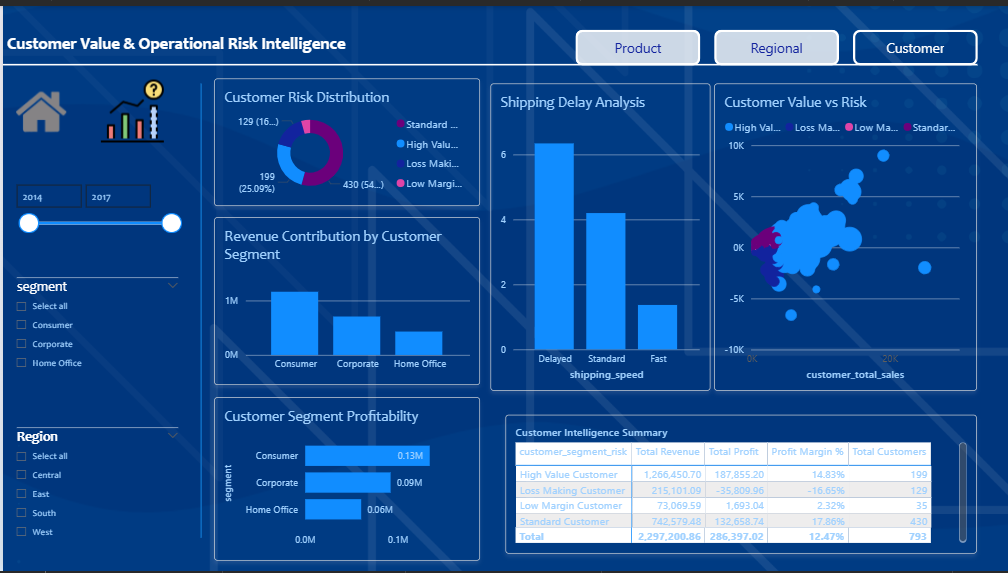

The page's visual inventory and layout, read from the dashboard file:
{"tool":"powerbi","page":{"name":"Customer Value & Operational Risk Intelligence","canvas":[1280,720],"ordinal":4},"visuals":[{"type":"slicer","fields":{"Values":["superstore_cleaned.segment"]},"box":[9.5,346.1,221.3,151.3],"z":0},{"type":"clusteredColumnChart","title":"Revenue Contribution by Customer Segment","fields":{"Category":["superstore_cleaned.segment"],"Y":["superstore_cleaned.Total Revenue"]},"box":[268.6,268.6,338.5,213.7],"z":1000},{"type":"clusteredBarChart","title":"Customer Segment Profitability","fields":{"Category":["superstore_cleaned.segment"],"Y":["superstore_cleaned.Total Profit"]},"box":[268.6,497.4,338.5,208],"z":2000},{"type":"donutChart","title":"Customer Risk Distribution","fields":{"Category":["superstore_cleaned.customer_segment_risk"],"Y":["Count(superstore_cleaned.customer_id)"]},"box":[268.6,92.7,338.5,162.6],"z":3000},{"type":"columnChart","title":"Shipping Delay Analysis","fields":{"Category":["superstore_cleaned.shipping_speed"],"Y":["Avg(superstore_cleaned.shipping_days)"]},"box":[620.3,98.3,279.9,391.5],"z":4000},{"type":"textbox","box":[0,29.9,1214.2,51.3],"z":5000,"group":"g1"},{"type":"scatterChart","title":"Customer Value vs Risk","fields":{"X":["superstore_cleaned.customer_total_sales"],"Y":["superstore_cleaned.customer_total_profit"],"Series":["superstore_cleaned.customer_segment_risk"],"Size":["Sum(superstore_cleaned.customer_order_count)"]},"box":[905.9,98.3,334.8,391.5],"z":5000},{"type":"pivotTable","title":"Customer Intelligence Summary","fields":{"Rows":["superstore_cleaned.customer_segment_risk"],"Values":["superstore_cleaned.Total Revenue","superstore_cleaned.Total Profit","superstore_cleaned.Profit Margin %","superstore_cleaned.Total Customers"]},"box":[639.8,520.4,600,176.7],"z":6000},{"type":"shape","box":[0,0,1240.7,149.4],"z":7000},{"type":"actionButton","box":[728.1,30.2,158.9,45.4],"z":7000,"group":"g1"},{"type":"group","id":"g1","title":"Group 1","box":[0,29.9,1240.7,51.3],"z":8000},{"type":"actionButton","box":[905.9,30.2,158.9,45.4],"z":8000,"group":"g1"},{"type":"actionButton","box":[1081.8,30.2,158.9,45.4],"z":9000,"group":"g1"},{"type":"shape","box":[175.9,98.3,151.3,578.7],"z":9000},{"type":"slicer","fields":{"Values":["superstore_cleaned.order_year"]},"box":[9.5,223.2,221.3,88.9],"z":10000},{"type":"slicer","fields":{"Values":["superstore_cleaned.region"]},"box":[9.5,536.5,221.3,183.5],"z":11000},{"type":"actionButton","box":[13.2,98.3,100.2,71.9],"z":12000},{"type":"actionButton","box":[119.4,85.9,90.7,95.5],"z":13000}]}

Visuals, with their boxes in screenshot pixels (x1, y1, x2, y2), scaled from the page's 1280x720 canvas onto the 1008x573 screenshot:
slicer - superstore_cleaned.segment: x1=7 y1=275 x2=182 y2=396
"Revenue Contribution by Customer Segment" clusteredColumnChart: x1=212 y1=214 x2=478 y2=384
"Customer Segment Profitability" clusteredBarChart: x1=212 y1=396 x2=478 y2=561
"Customer Risk Distribution" donutChart: x1=212 y1=74 x2=478 y2=203
"Shipping Delay Analysis" columnChart: x1=488 y1=78 x2=709 y2=390
textbox: x1=0 y1=24 x2=956 y2=65
"Customer Value vs Risk" scatterChart: x1=713 y1=78 x2=977 y2=390
"Customer Intelligence Summary" pivotTable: x1=504 y1=414 x2=976 y2=555
shape: x1=0 y1=0 x2=977 y2=119
actionButton: x1=573 y1=24 x2=699 y2=60
"Group 1" group: x1=0 y1=24 x2=977 y2=65
actionButton: x1=713 y1=24 x2=839 y2=60
actionButton: x1=852 y1=24 x2=977 y2=60
shape: x1=139 y1=78 x2=258 y2=539
slicer - superstore_cleaned.order_year: x1=7 y1=178 x2=182 y2=248
slicer - superstore_cleaned.region: x1=7 y1=427 x2=182 y2=572
actionButton: x1=10 y1=78 x2=89 y2=135
actionButton: x1=94 y1=68 x2=165 y2=144
